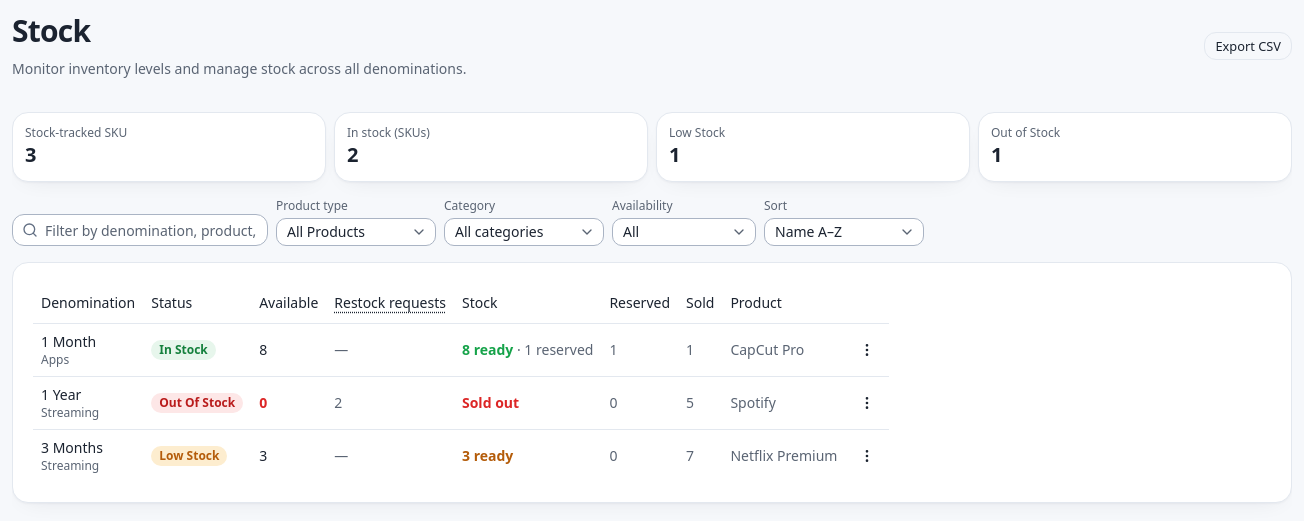
Test: StockPage › row overflow menu offers View and Download Credentials when stock is available
Check: the text "1 Month" is shown, box top-left (41, 332), bottom-right (96, 351)
Step 1. Click the button named "Actions for 1 Month" → [867, 350], box top-left (853, 336), bottom-right (881, 364)
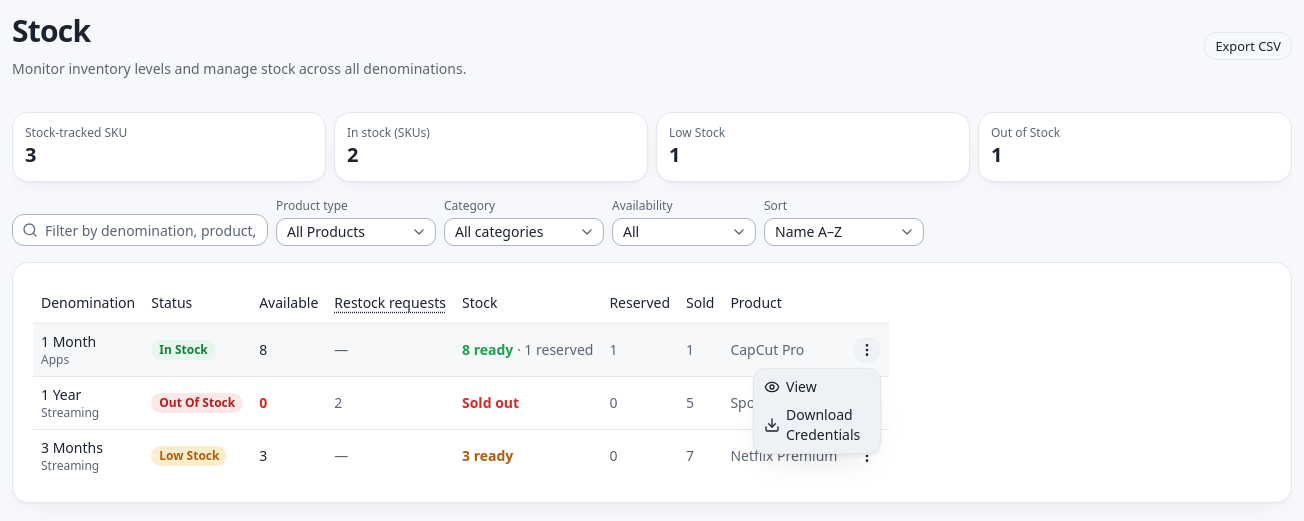
Check: the menu item "View" is shown, box top-left (764, 377), bottom-right (817, 396)
Check: the menu item "Download Credentials" is shown, box top-left (764, 405), bottom-right (860, 444)
